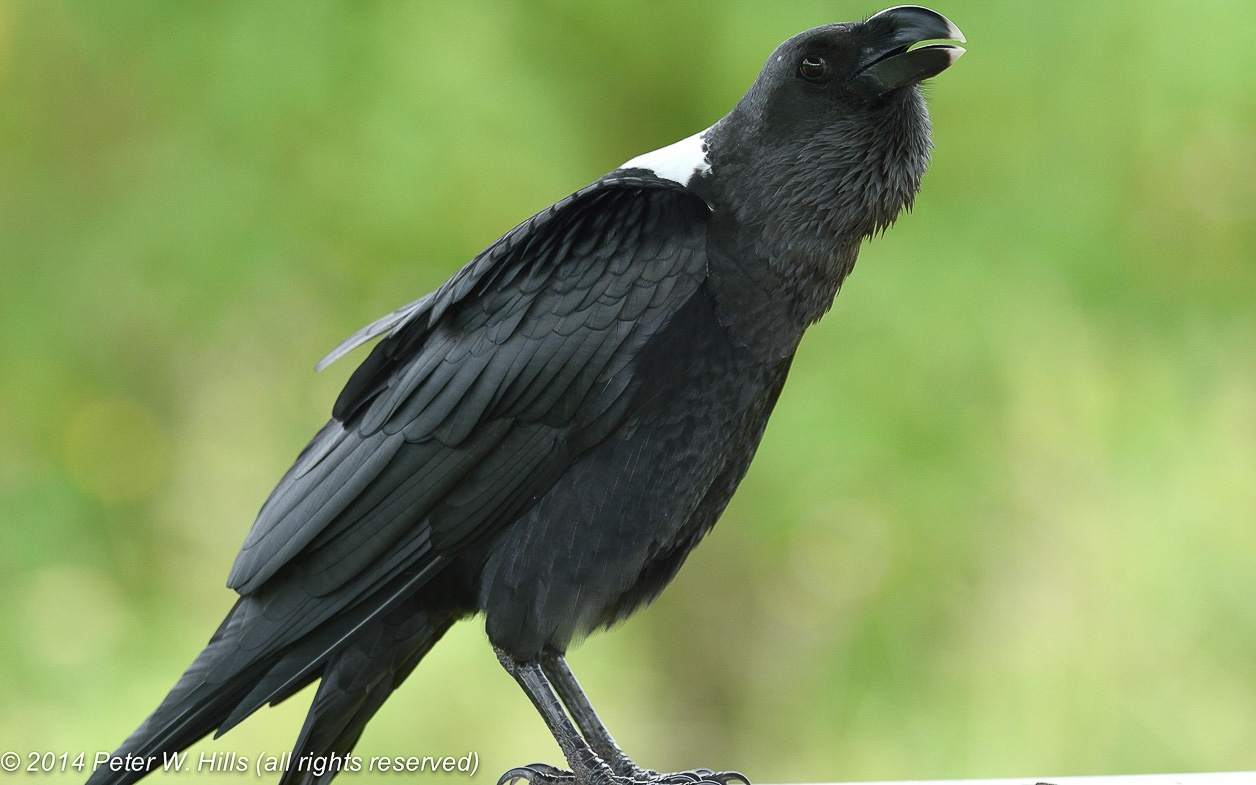bird: (67, 3, 975, 783)
